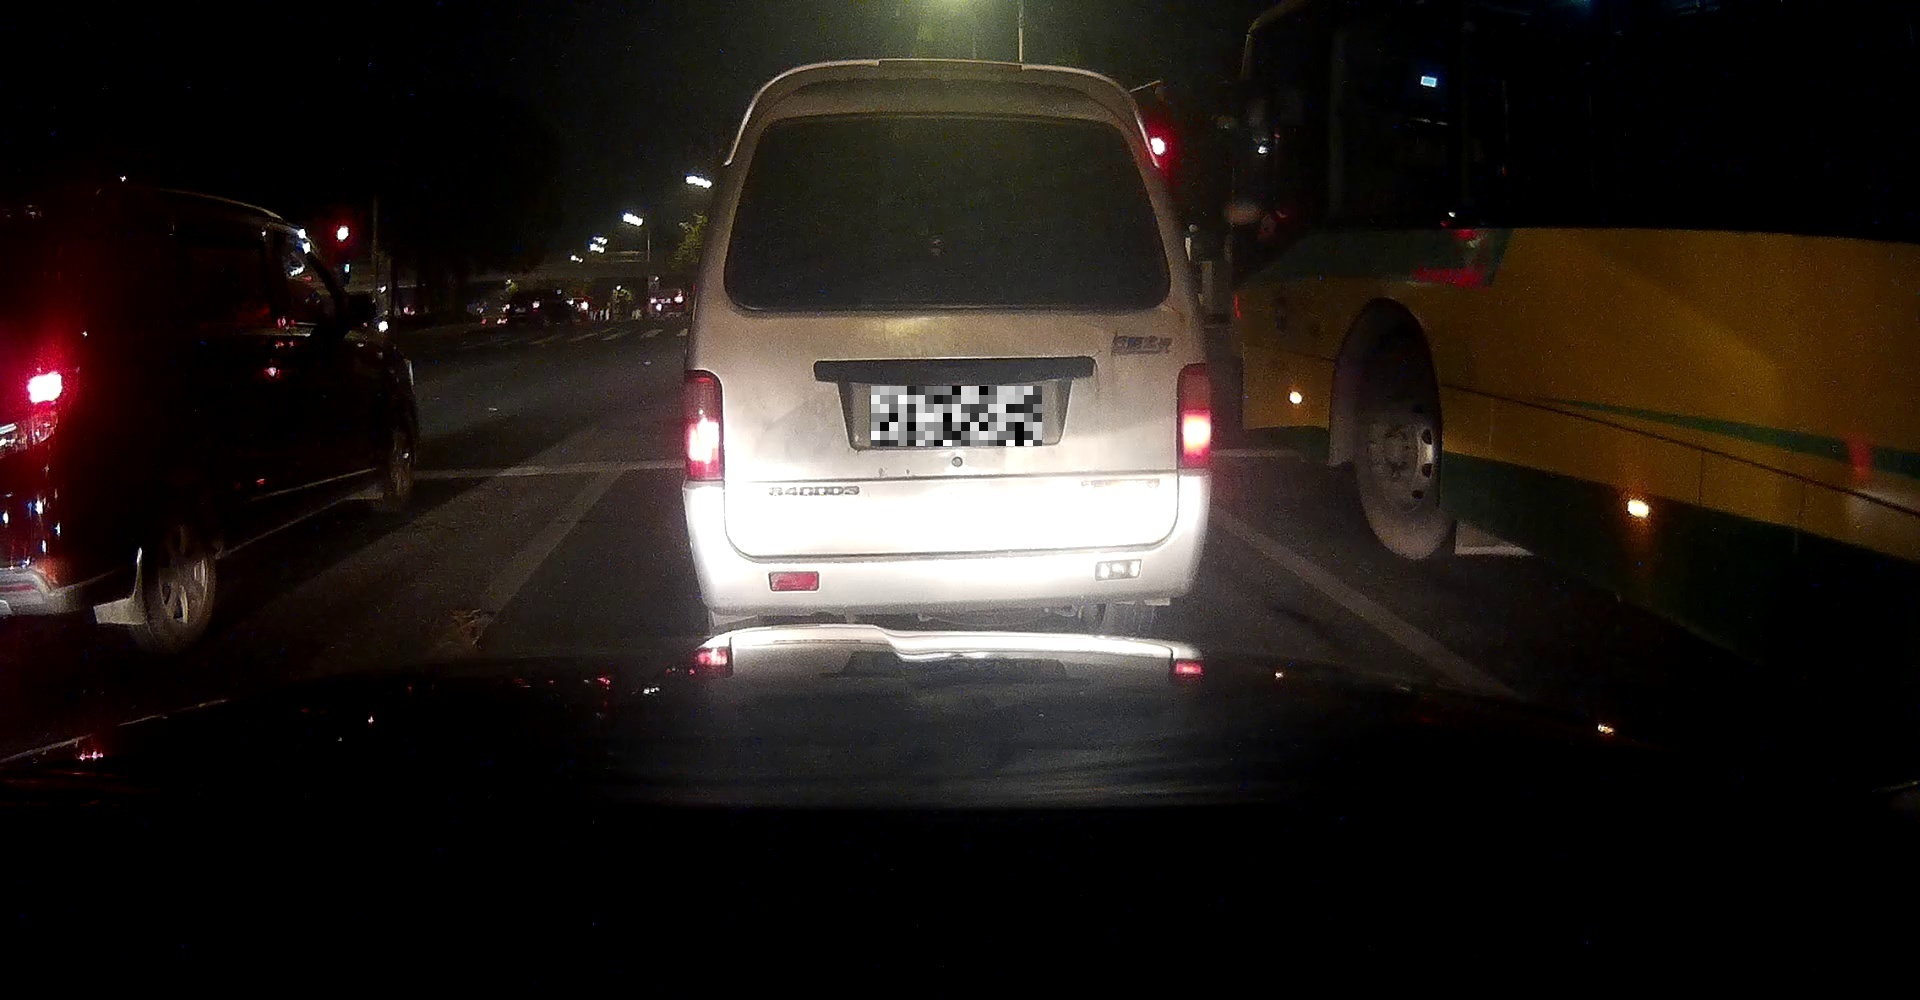L_light: (681, 369, 726, 484)
R_light: (1175, 362, 1213, 470)
T_light: (914, 114, 984, 124)
night-no: (679, 56, 1215, 640)
plate_1: (871, 386, 1043, 445)
